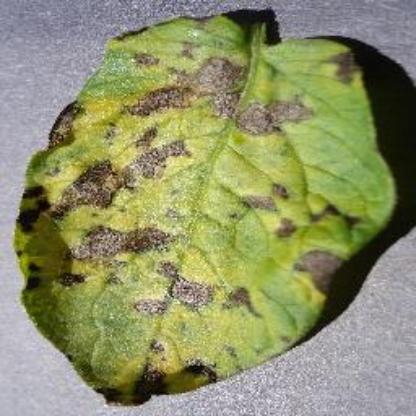Early-Blight: (12, 0, 416, 408)
